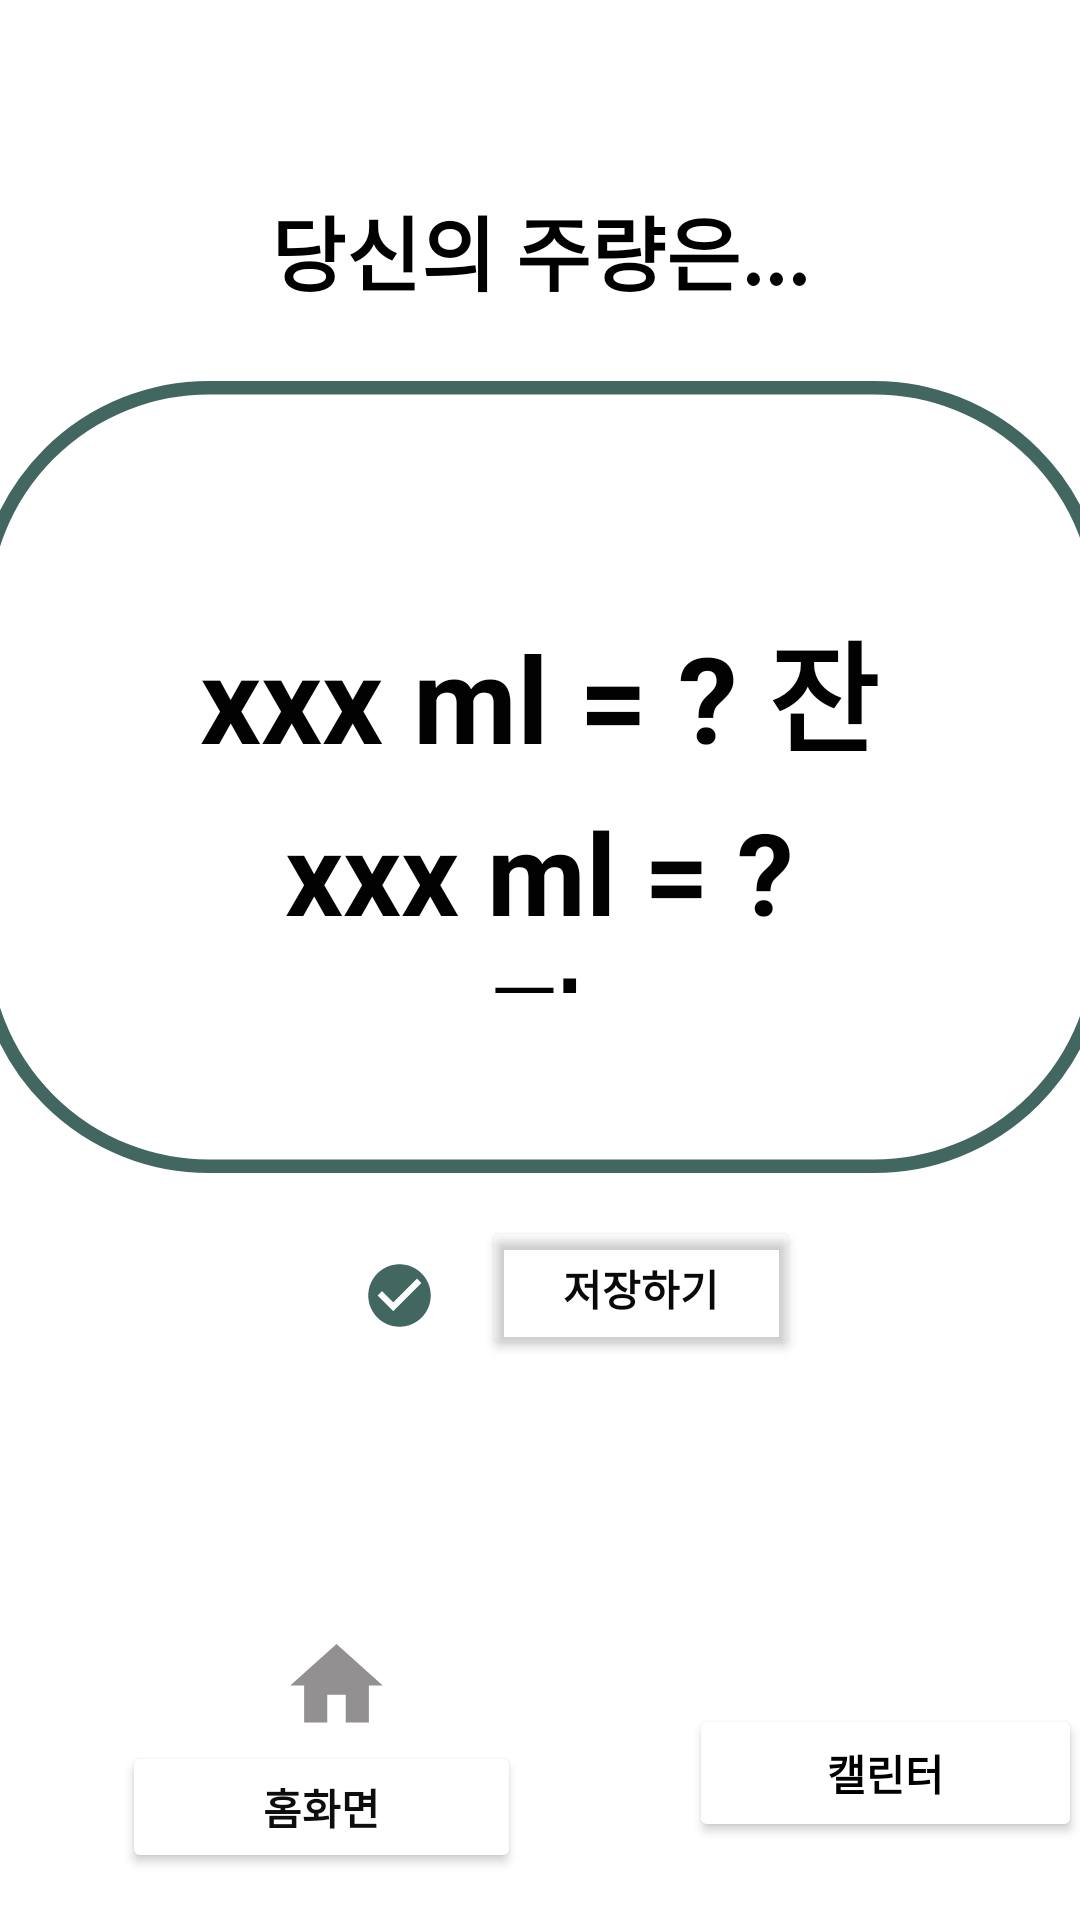

Icon click points for this 1080w x 1920h phone screenshot, format [x,y]:
check circle: [399,1295]
home: [336,1683]
